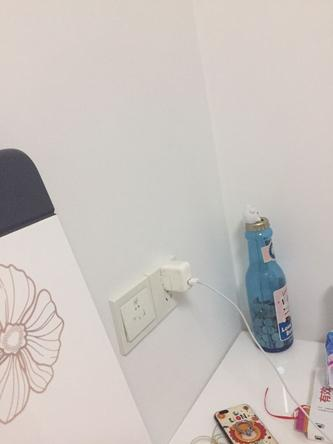switch: (119, 291, 158, 338)
